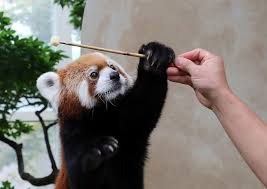redPanda: (29, 33, 172, 189)
